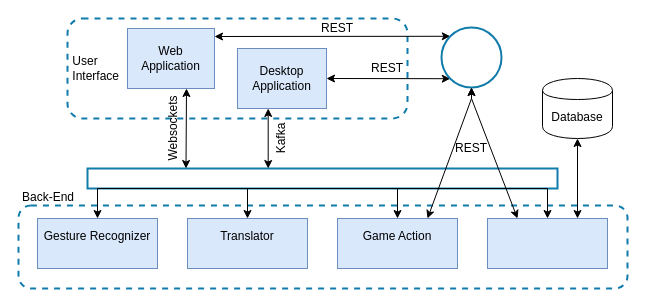
Image size: 645x306. Some labels were removed from this diagram. The shapes that lost their labels are listed below. From the top down, each one's centre as x and y in pixels, then its label:
(x=471, y=57): Load Balancer
(x=322, y=178): Broker
(x=547, y=243): Game Engine and Storage
